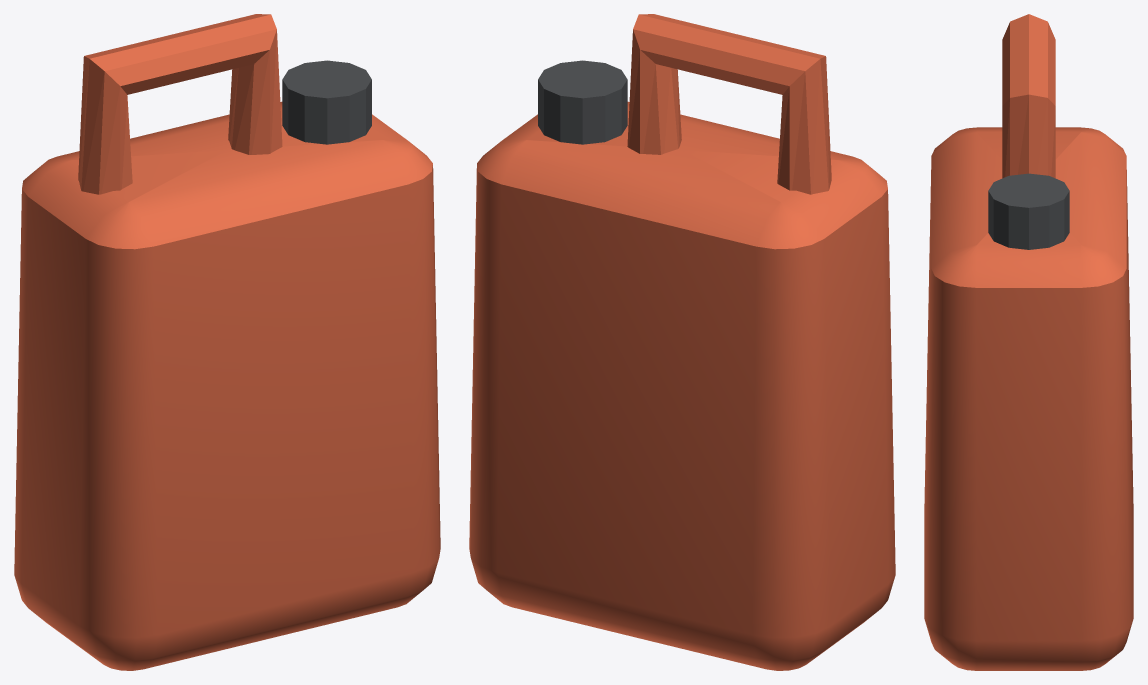
File: motorcycle-racing-and-street-bikes-fuel-can-f678f1b4__15444.glb
3 renders of one model, left to right at view 1: azimuth 30°, elevation 25°; view 2: azimuth 150°, elevation 25°; view 3: azimuth 270°, elevation 25°, orthographic. The views are drawn at different scales.
Parts seen in each view (by area): view 1: fuel-can; view 2: fuel-can; view 3: fuel-can.
Part boxes in pixels (bbox=[...]): fuel-can: bbox=[14, 14, 440, 670]; fuel-can: bbox=[469, 14, 895, 670]; fuel-can: bbox=[924, 14, 1133, 670].
Size of the model in its own units: 0.32 by 0.5078 by 0.18.
